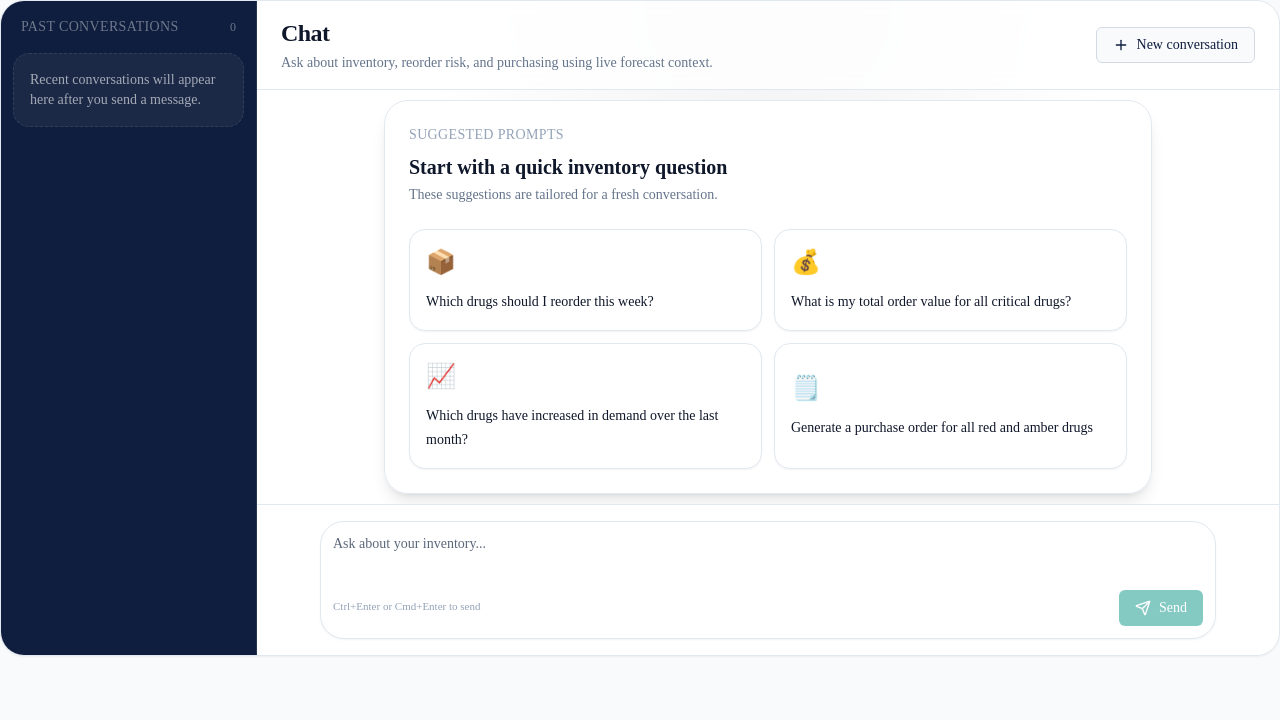
Chat route › stops generation without marking an intentional cancel as an error
Click the button "📦 Which drugs should I reorder this week?" at [540, 302], box [409,229,762,331]
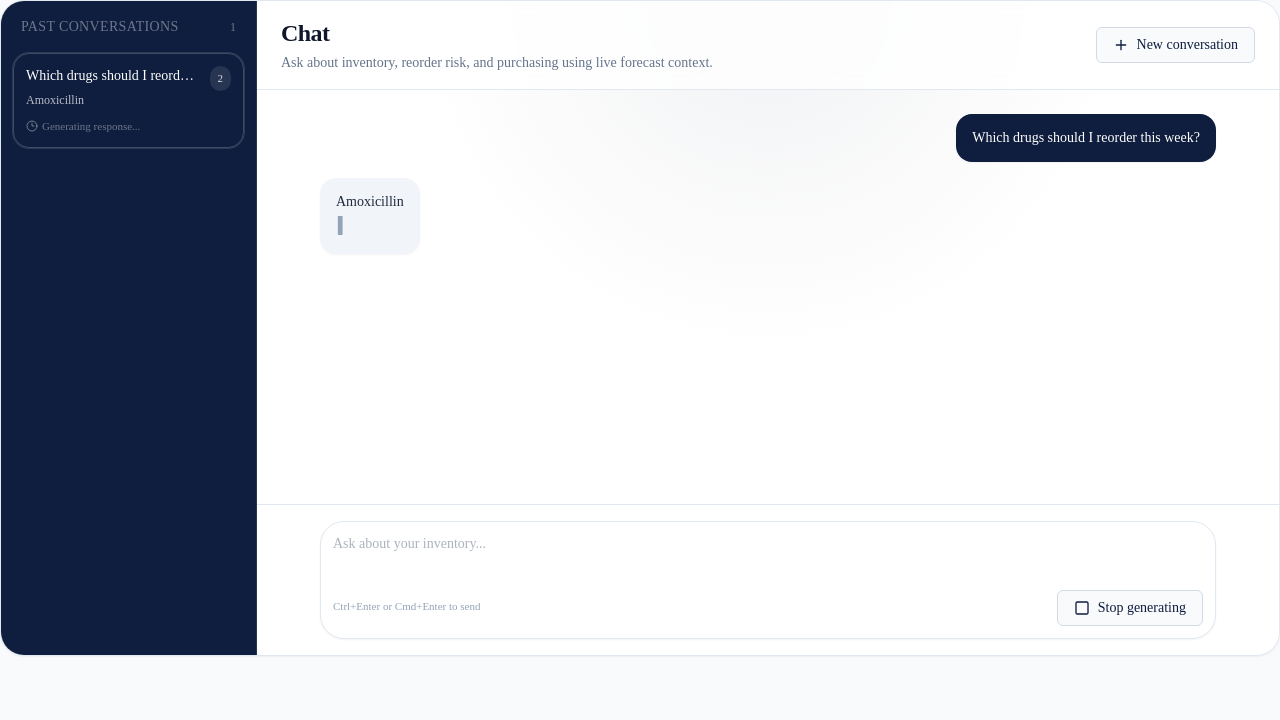
Now the button "Stop generating" is shown
Now the text "Amoxicillin" below "Past conversations" is shown, box [26,93,84,107]
Click the button "Stop generating" at [1130, 608], box [1057,590,1203,626]
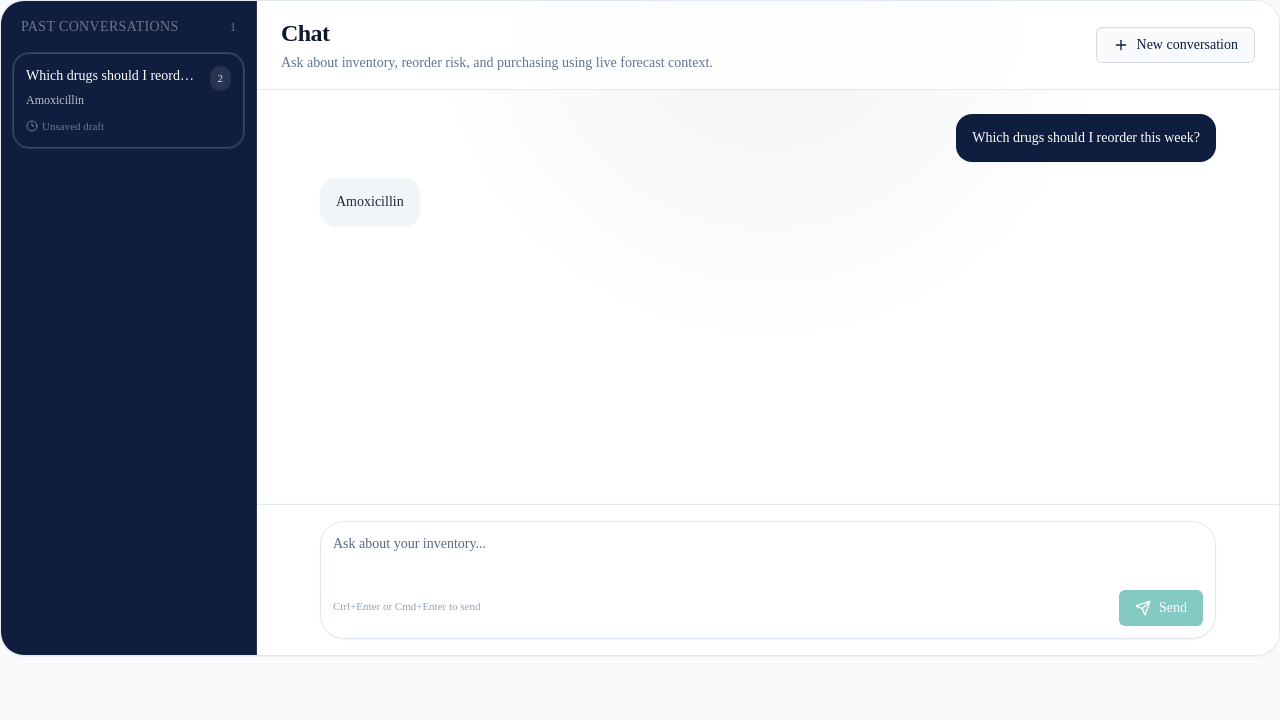
Now the text "Amoxicillin" below "Past conversations" is shown, box [26,93,84,107]
Now the button "Stop generating" is gone
